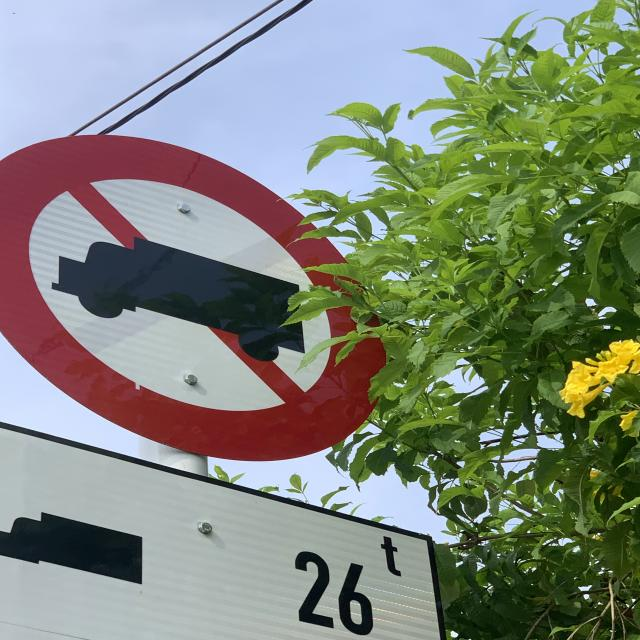Cam_Xe_Tai: (0, 131, 387, 454)
